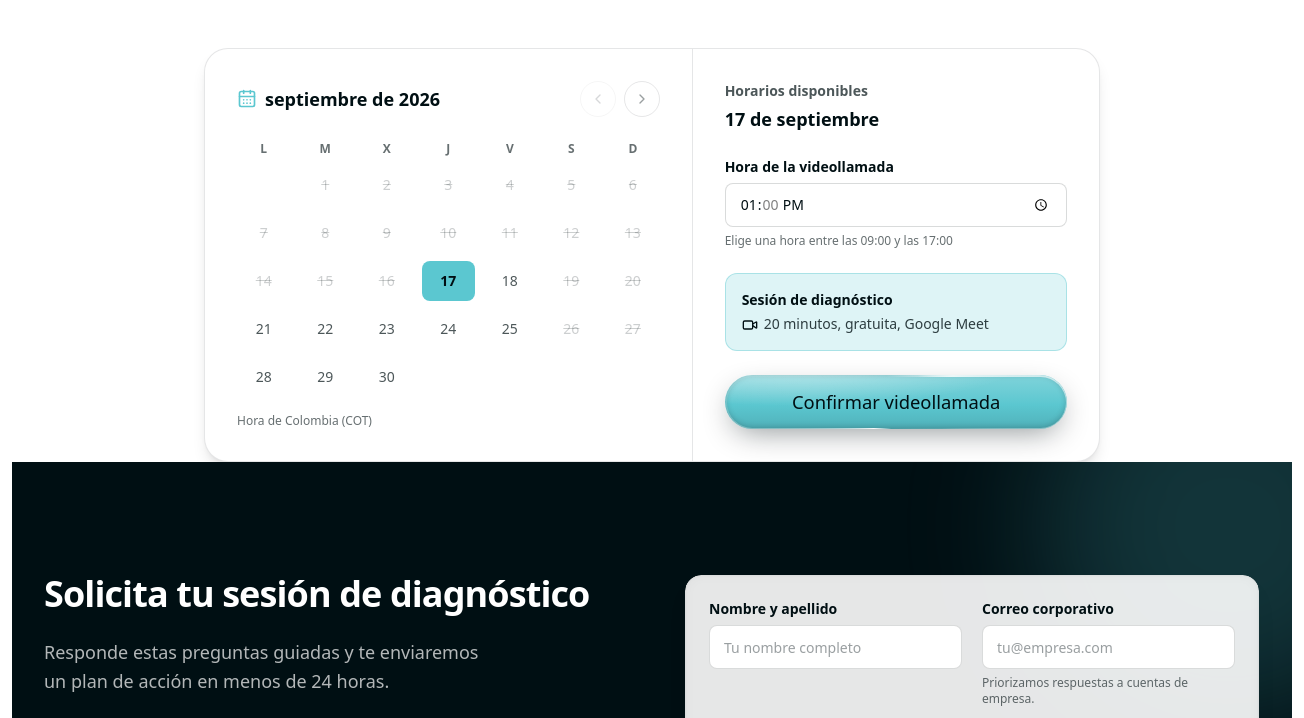
Test case: booking flow › navigates across months without a limit
Check: the text "septiembre de 2026" is shown, box [237, 85, 440, 113]
Check: the button named "Mes anterior" is disabled, box [580, 81, 616, 117]
Click the button named "Mes siguiente": (642, 99) [624, 81, 660, 117]
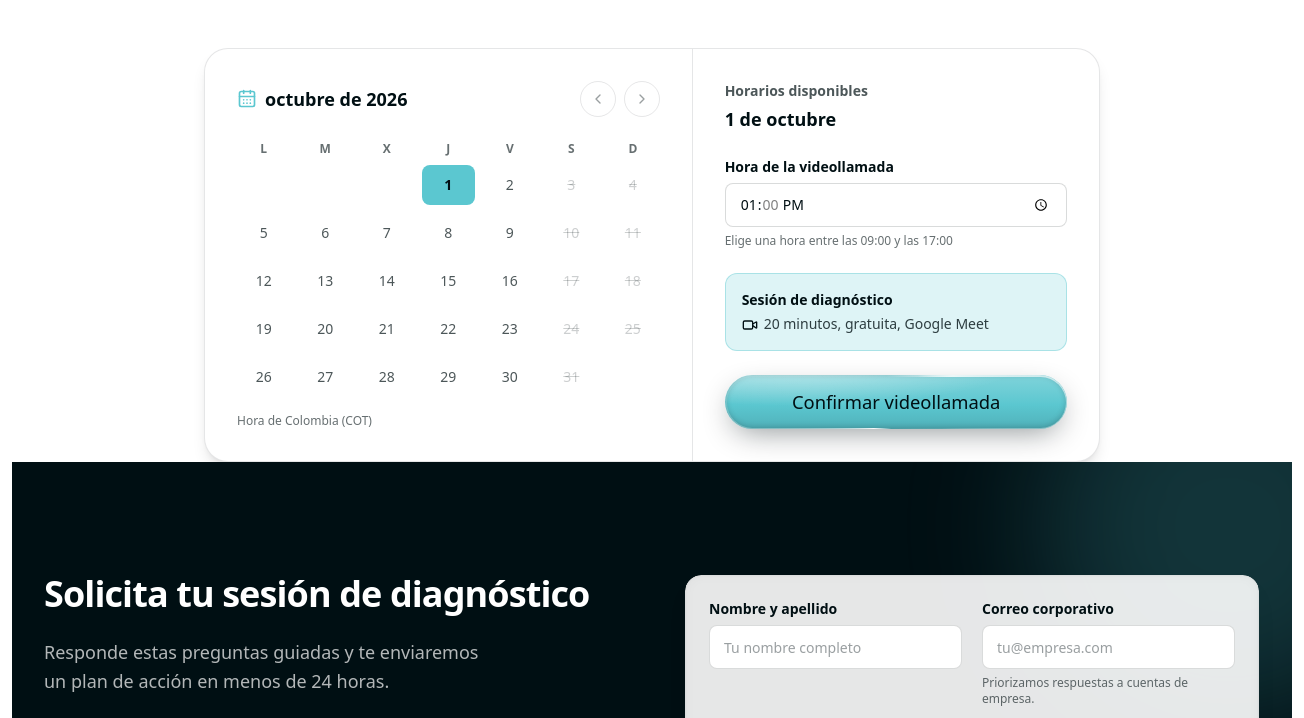
Check: the button named "Mes anterior" is enabled, box [580, 81, 616, 117]
Check: the text "octubre de 2026" is shown, box [237, 85, 408, 113]
Click the button named "Mes siguiente": (642, 99) [624, 81, 660, 117]
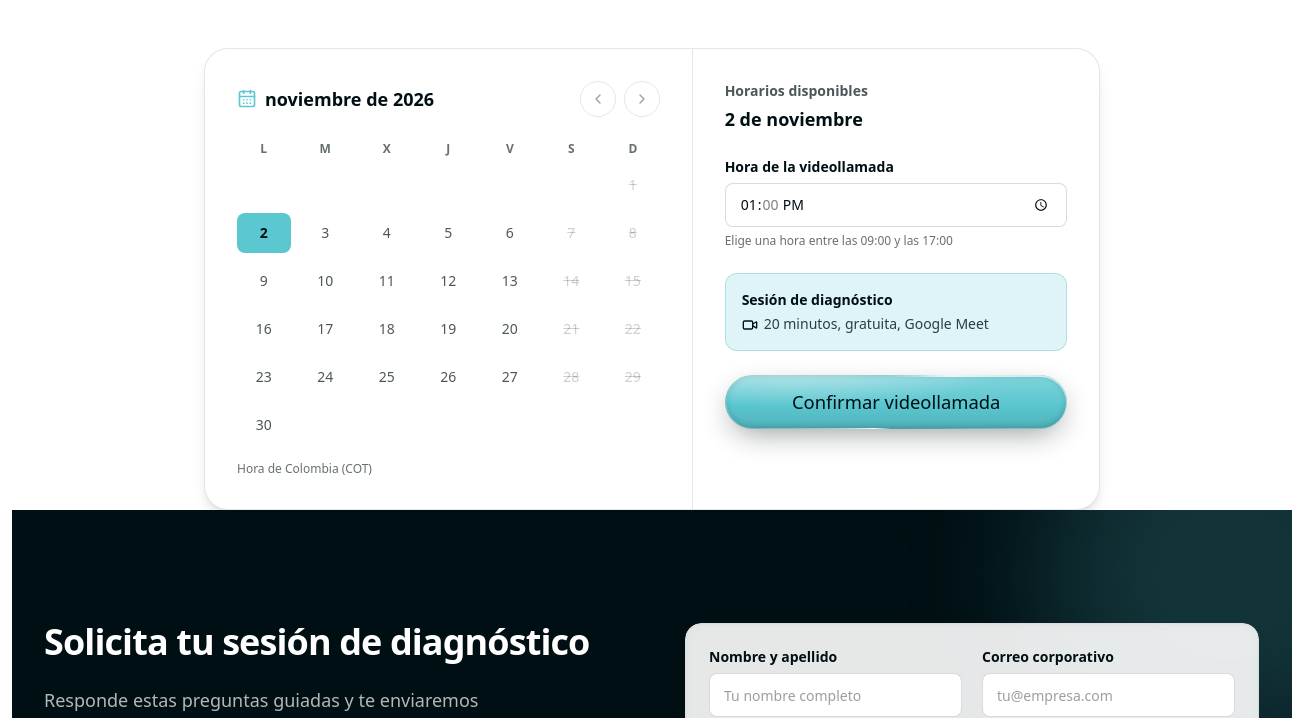
Click the button named "Mes siguiente": (642, 99) [624, 81, 660, 117]
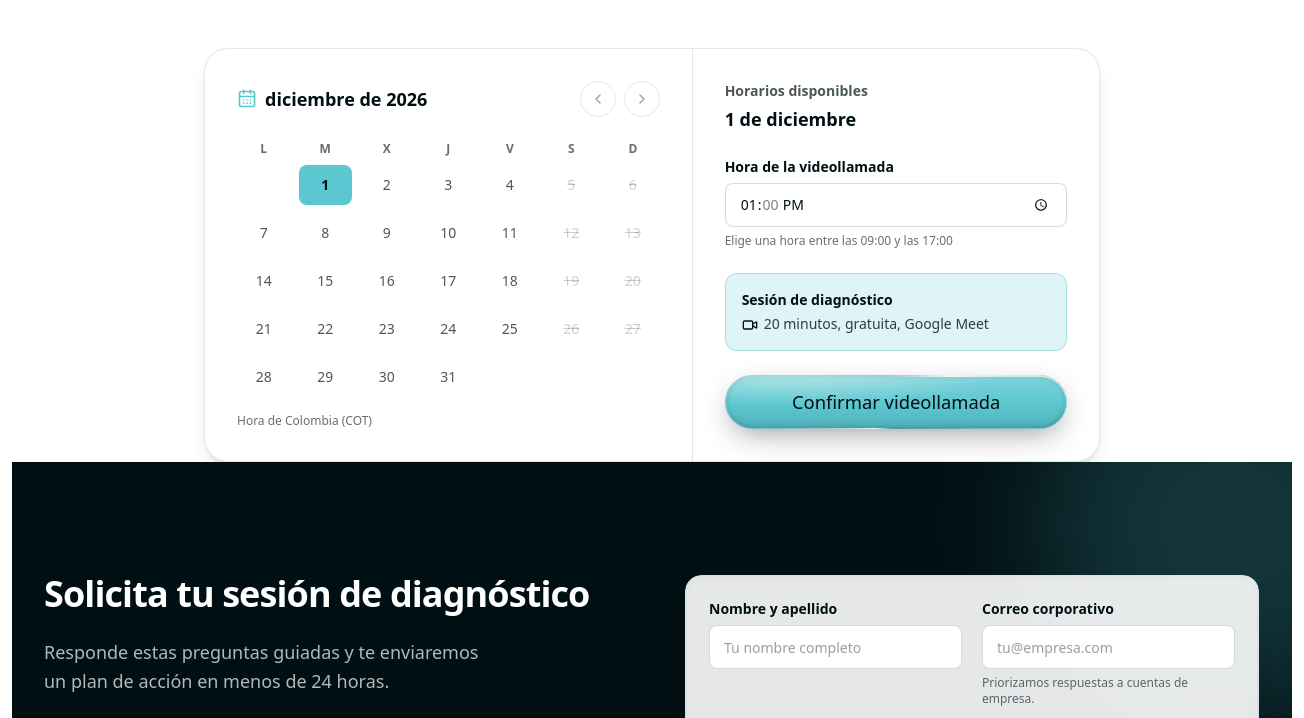
Check: the text "diciembre de 2026" is shown, box [237, 85, 427, 113]
Click the button named "Mes anterior": (598, 99) [580, 81, 616, 117]
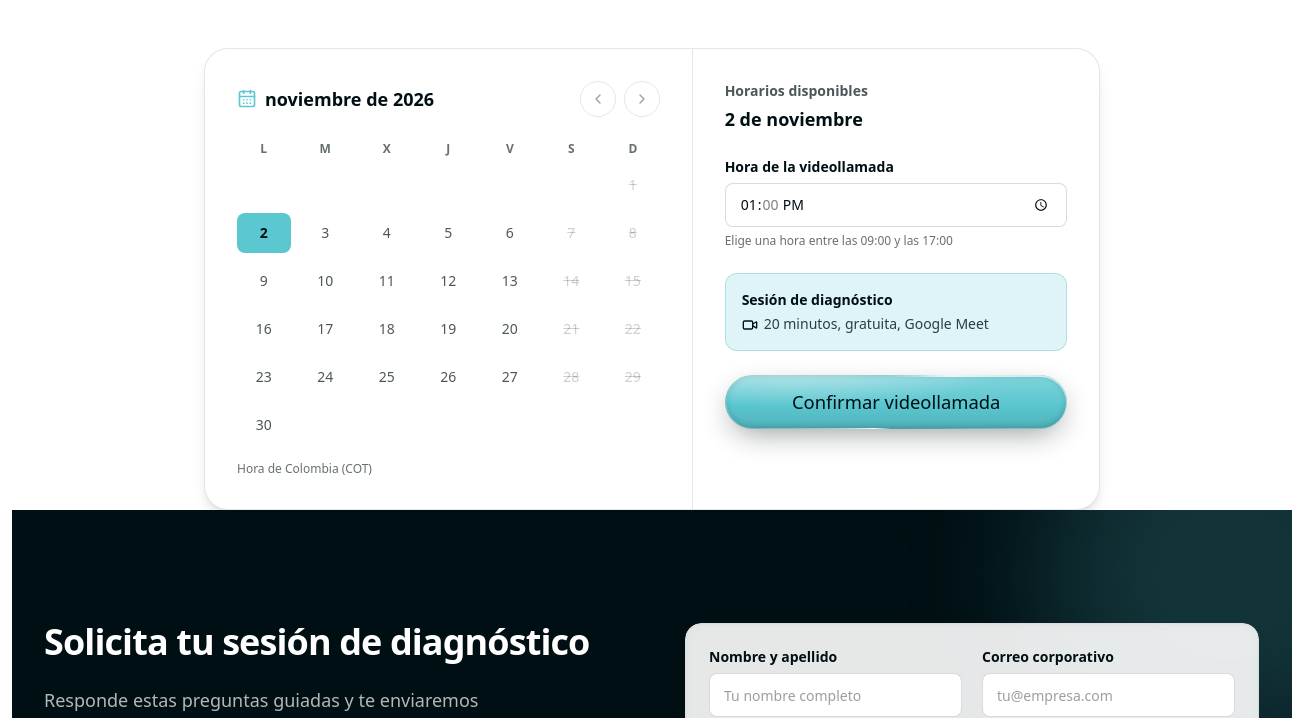
Check: the text "noviembre de 2026" is shown, box [237, 85, 434, 113]
